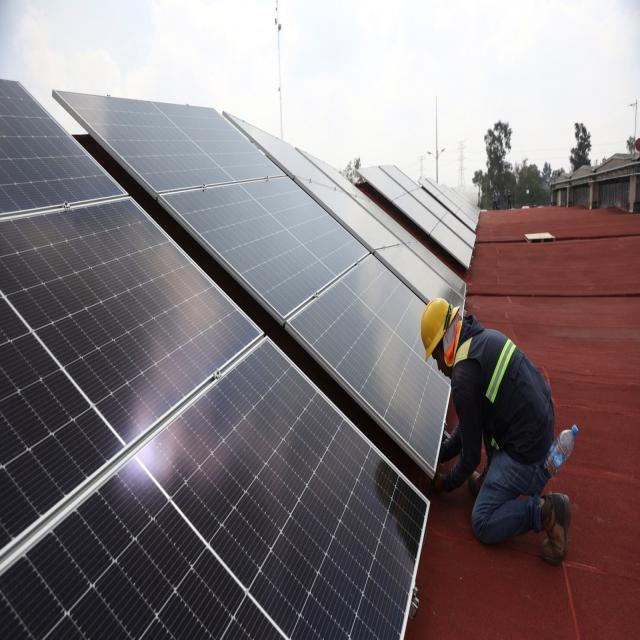clean-solar-panel: (0, 81, 429, 638)
